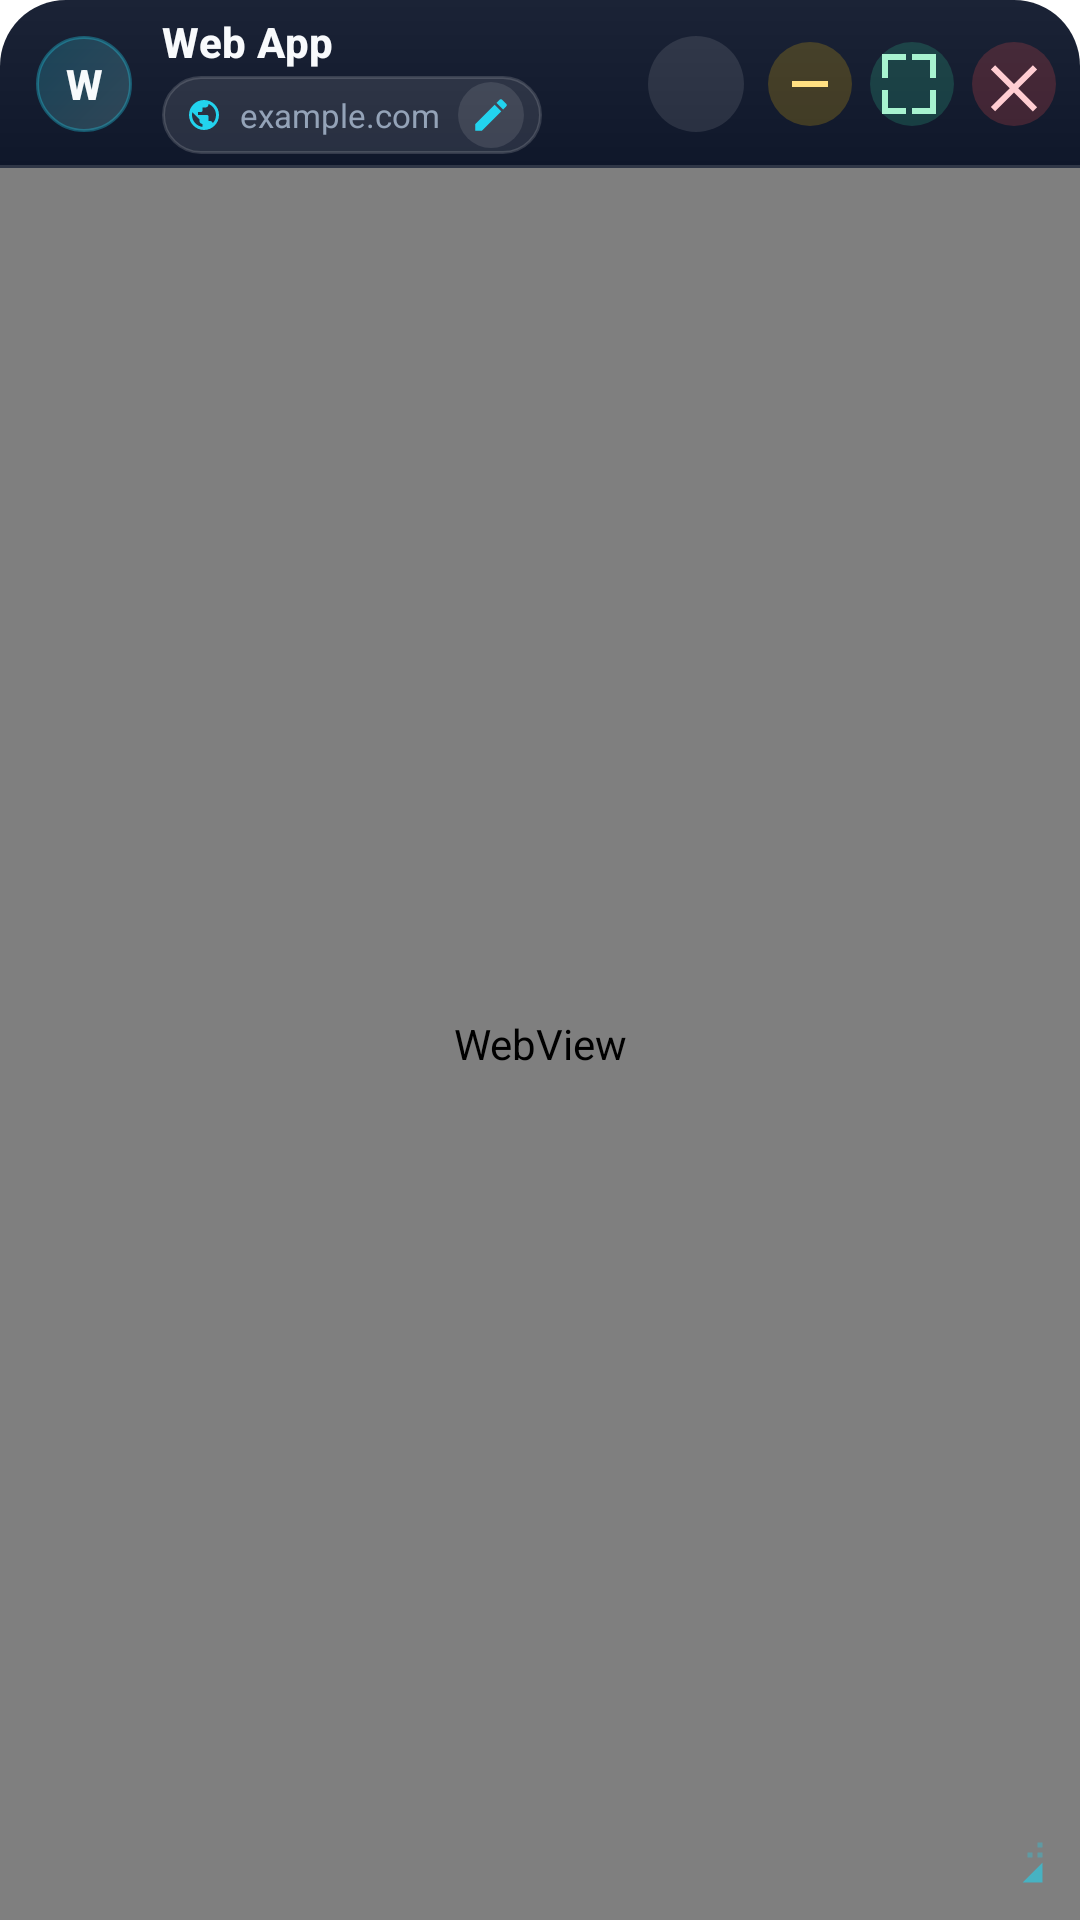

Locate icon controls on the screen. Image size 1080w x 1920h, boxes as {"x1": x1, "y1": y1, "x2": x2, "y2": y2}.
Close: {"x1": 972, "y1": 42, "x2": 1056, "y2": 126}
Edit address: {"x1": 458, "y1": 82, "x2": 524, "y2": 148}
globe: {"x1": 189, "y1": 100, "x2": 219, "y2": 130}
Maximize: {"x1": 870, "y1": 42, "x2": 954, "y2": 126}
Minimize: {"x1": 768, "y1": 42, "x2": 852, "y2": 126}
